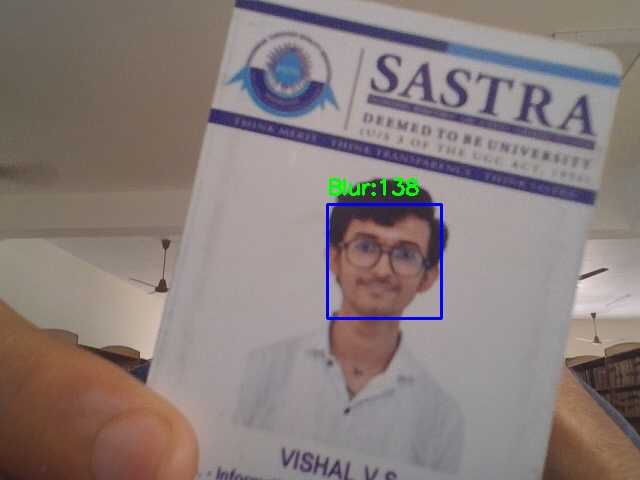fake: (327, 204, 441, 318)
